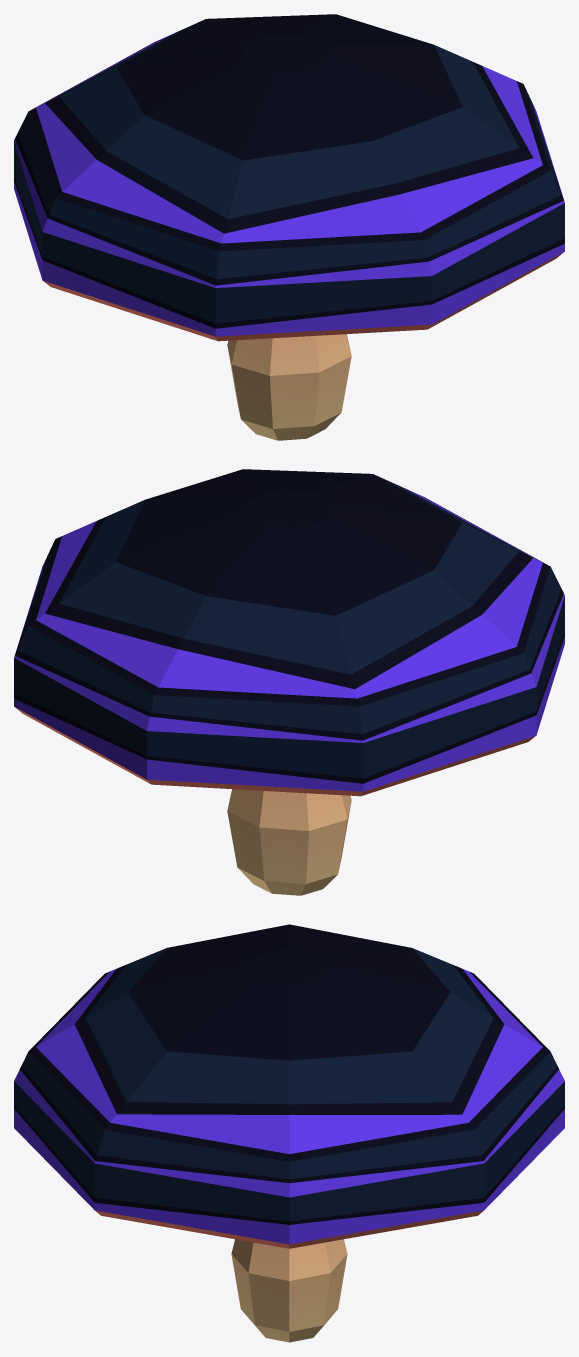
The model's file is Garden_WideShroom01.fbx.
The picture shows the model from 3 angles, top to bottom: view 1: azimuth 30°, elevation 25°; view 2: azimuth 150°, elevation 25°; view 3: azimuth 270°, elevation 25°; orthographic projection. The views are drawn at different scales.
Parts seen in each view (by area): view 1: Cylinder.315; view 2: Cylinder.315; view 3: Cylinder.315.
Part boxes in pixels (left/top/right/bottom): Cylinder.315: left=14, top=14, right=564, bottom=440; Cylinder.315: left=14, top=469, right=564, bottom=895; Cylinder.315: left=14, top=924, right=564, bottom=1342.
Size of the model in its own units: 102 by 73.54 by 102.
